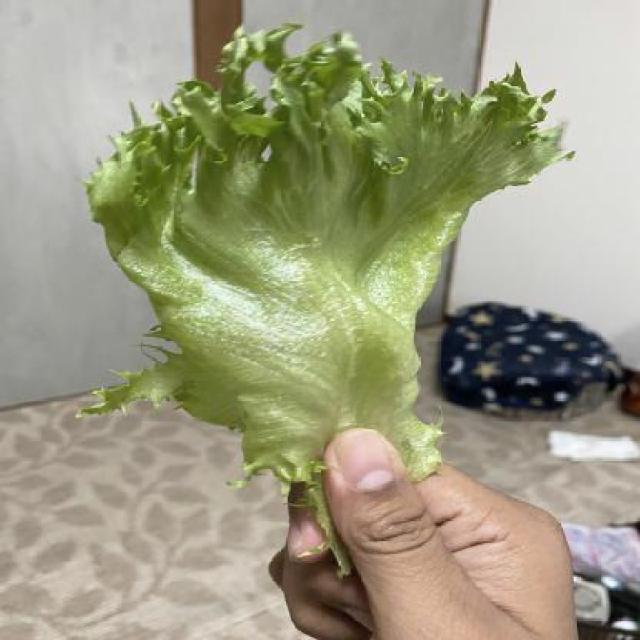Lettuce: (80, 19, 568, 504)
